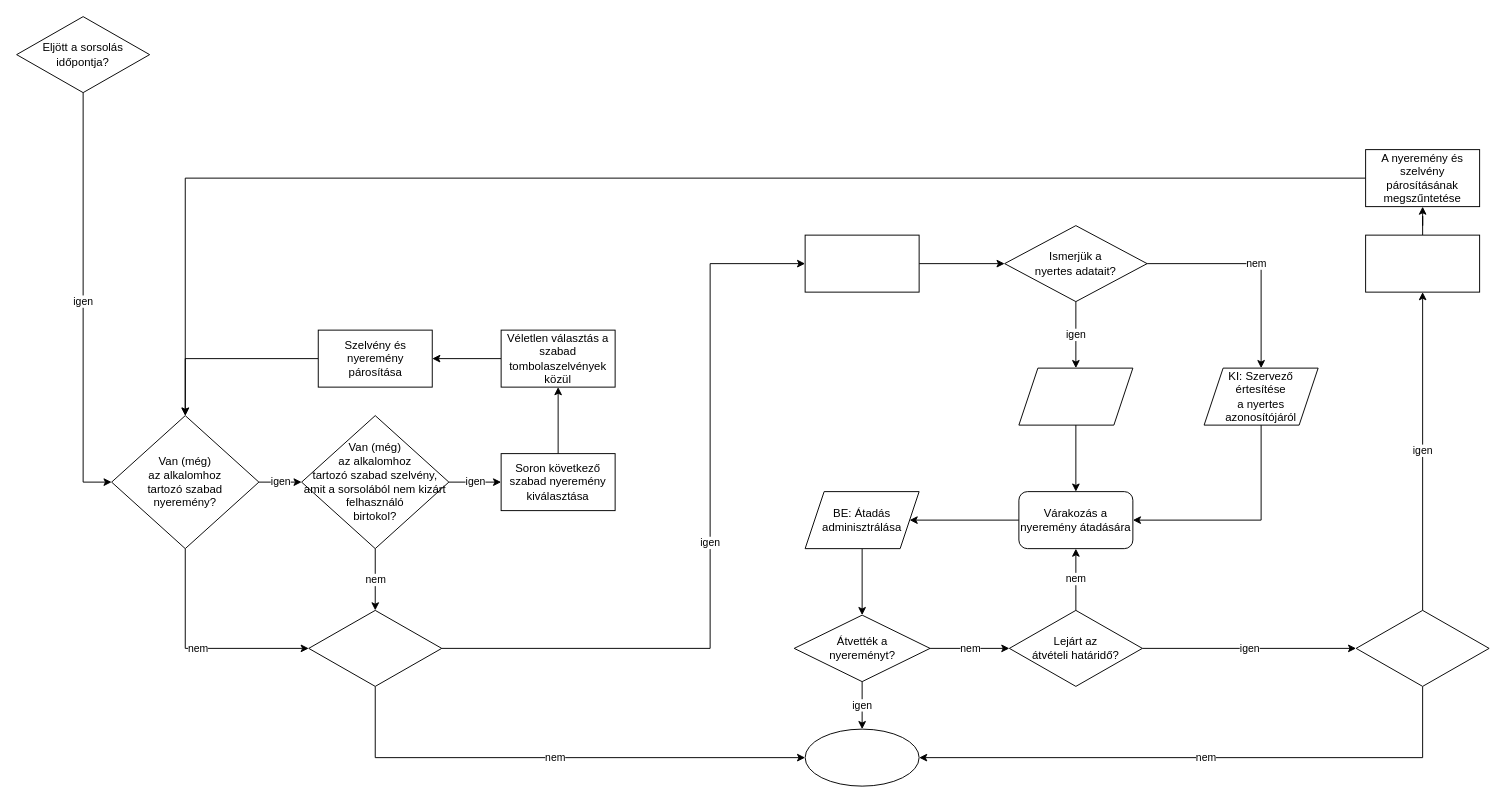
This 1506x803 diagram has some shape labels left out. The centre of each missing label's shape, as x and y in pixels:
"KI: Nyertes értesítése" belongs at [1075,396].
"Korábbi nyertes kizárása az új sorsolásból" belongs at [1422,263].
"Soron következő nyertes kiválasztása" belongs at [861,263].
"Szükséges új sorsolást tartani?" belongs at [1422,647].
"Van legalább egy nyertes?" belongs at [375,647].
"VÉGE: alkalom lezárása" belongs at [861,757].
